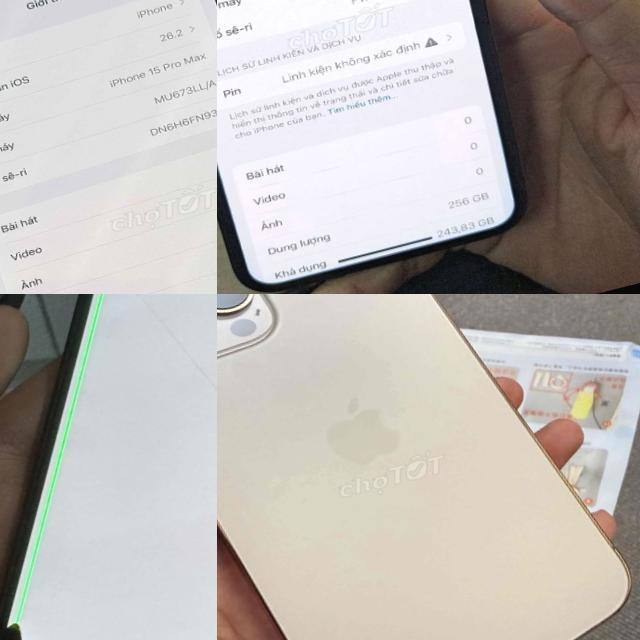gen_12_13: (217, 294, 640, 640)
gen_15: (0, 0, 217, 294)
gen_x_xs: (217, 0, 559, 294), (0, 294, 217, 640)
screen_defect: (0, 294, 153, 635), (149, 316, 217, 396)
